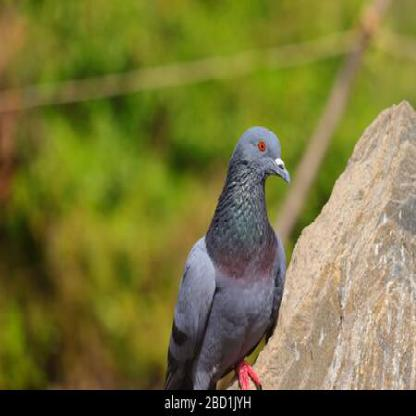Flying Rat: (156, 120, 297, 388)
